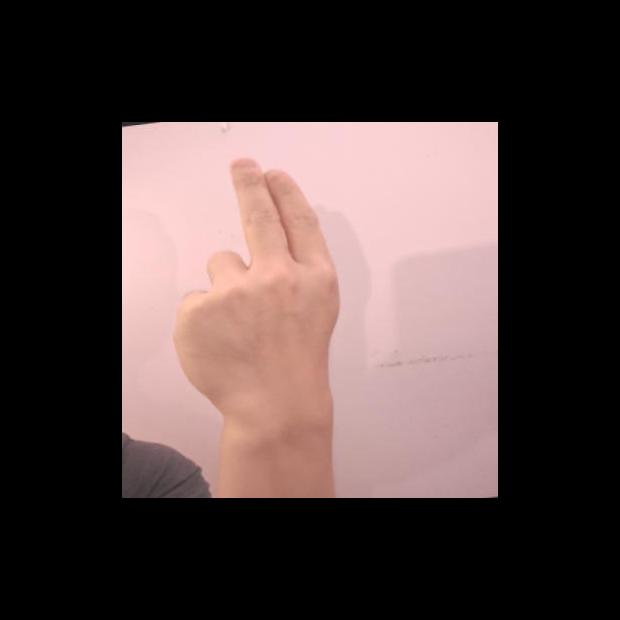T: (154, 144, 358, 420)
